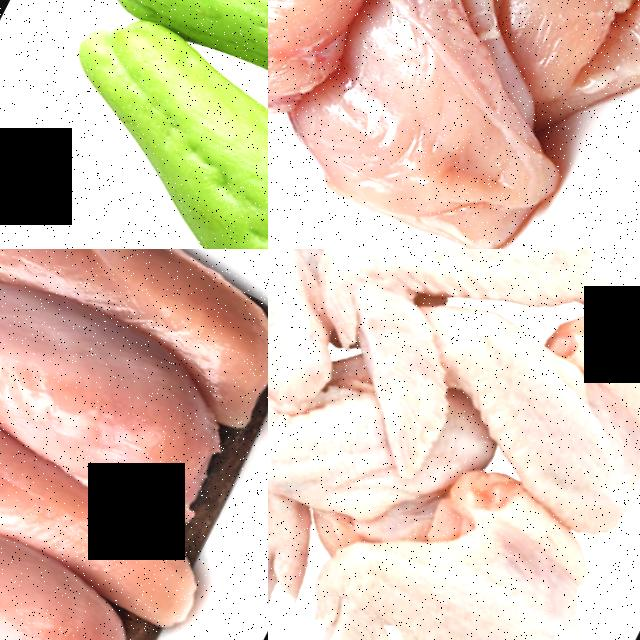chayote: (0, 0, 268, 249), (93, 0, 268, 248)
chicken breast: (272, 0, 572, 249), (0, 249, 259, 522), (0, 301, 214, 621), (0, 249, 268, 420), (0, 416, 170, 640), (268, 0, 487, 150), (460, 0, 640, 130)
chicken wing: (268, 249, 621, 507), (268, 440, 639, 640), (268, 335, 362, 640)
